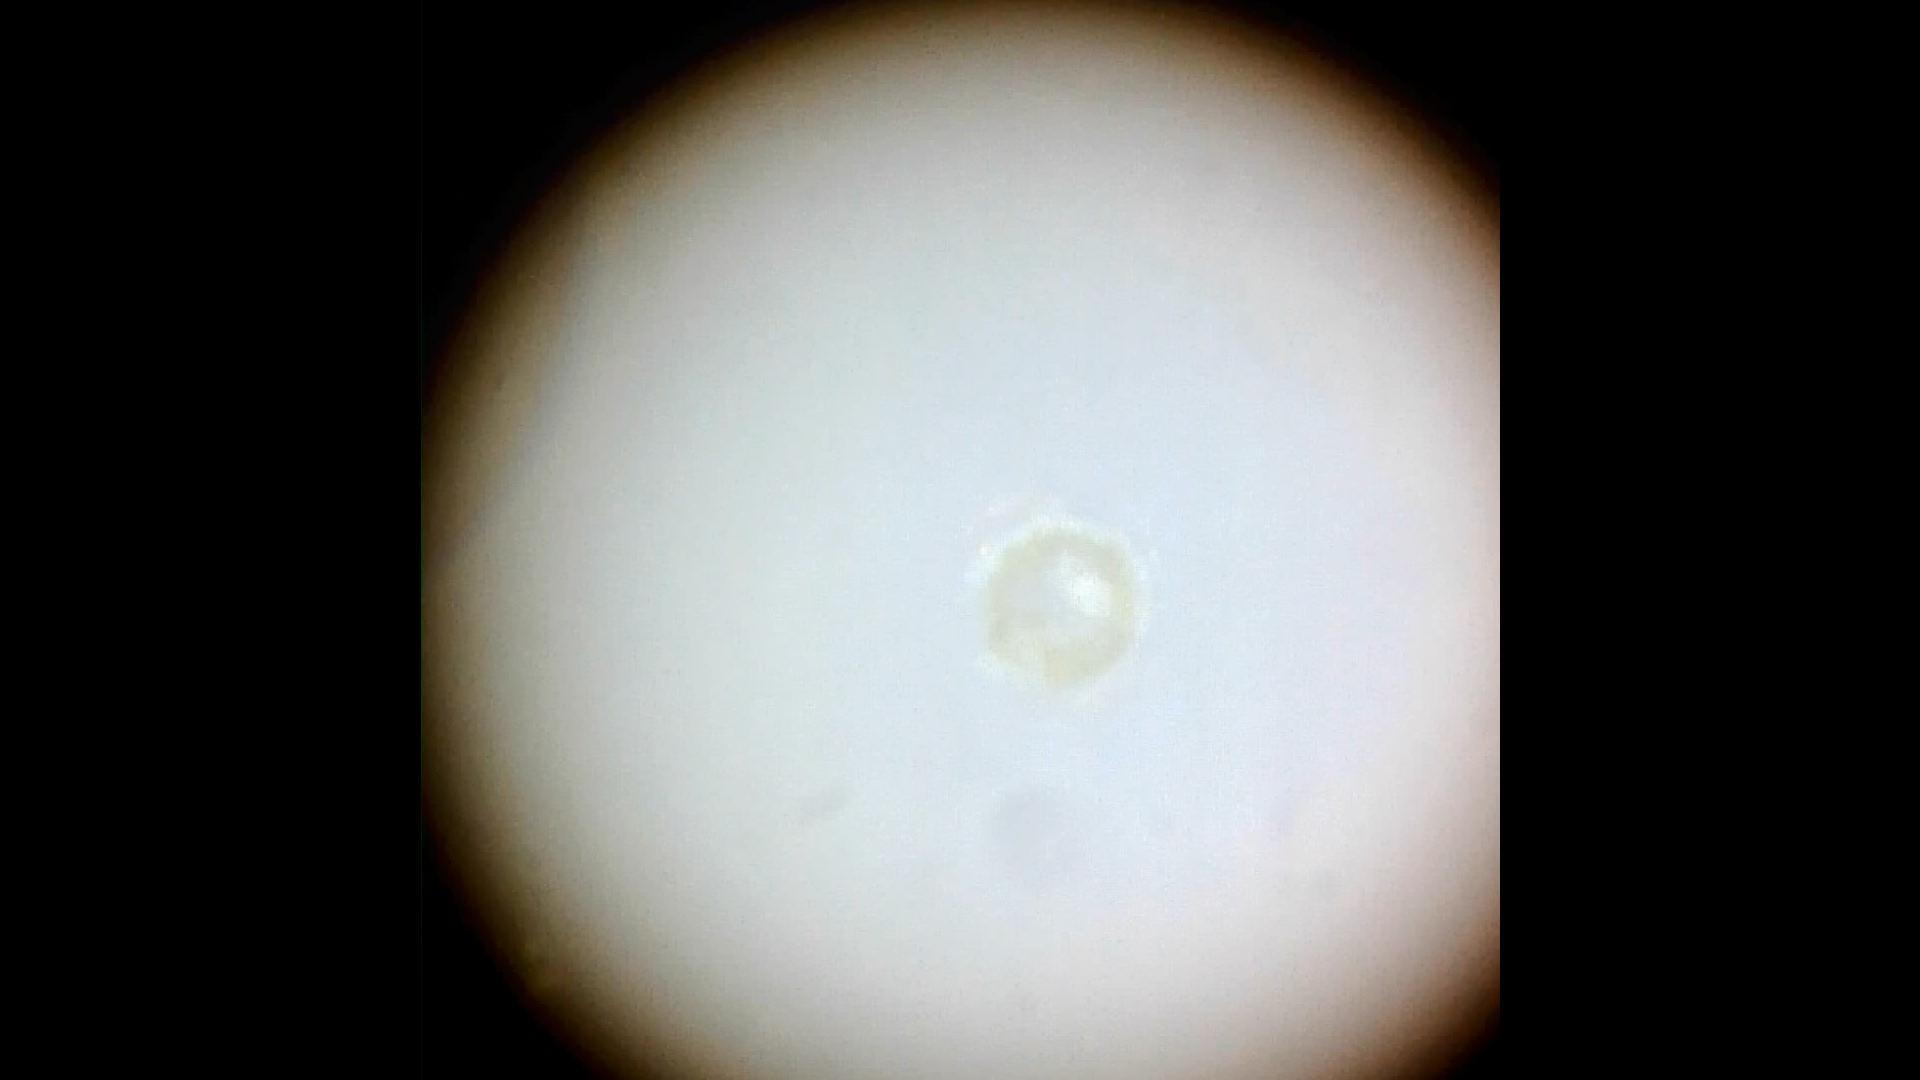alexandrium minutum: (957, 505, 1160, 708)
